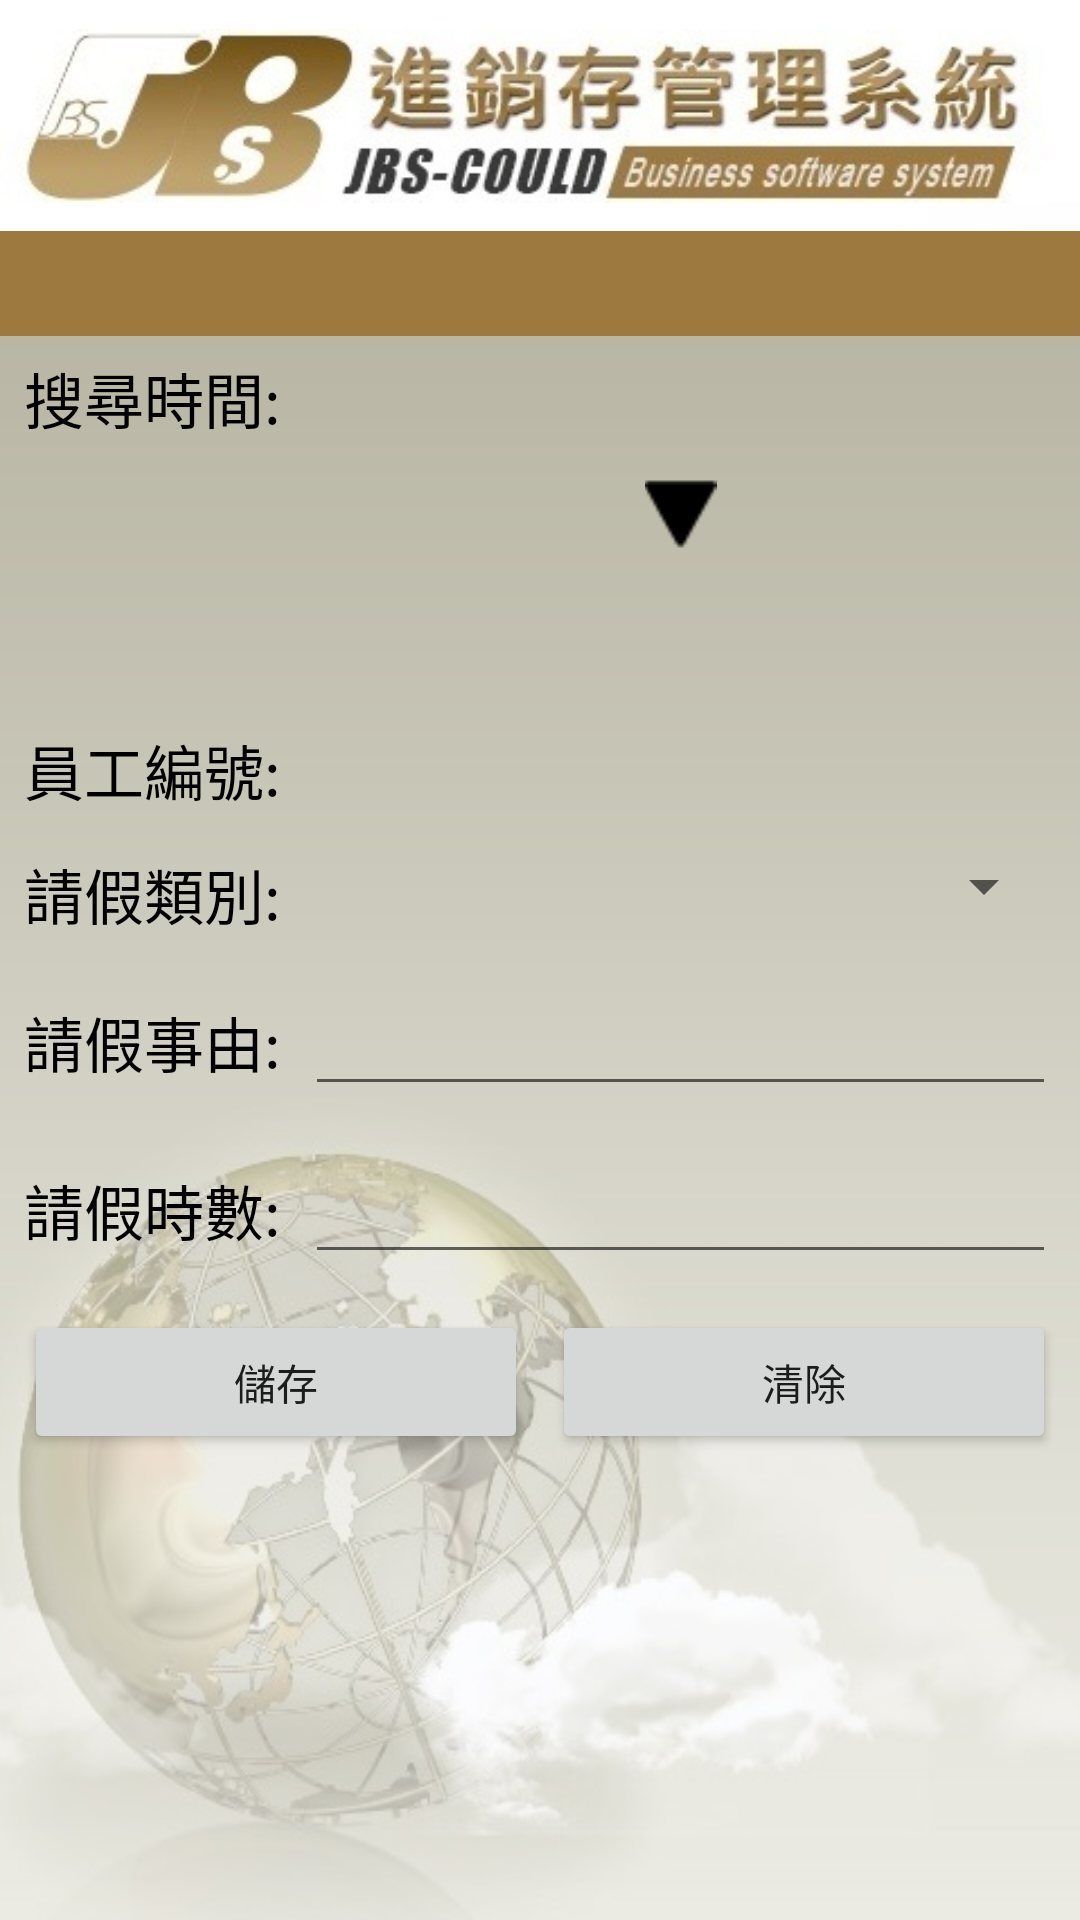

Icons on this 1080 x 1920 Android screen, each with its box as bbox=[x1, y1, x2, y2]:
down arrow: bbox=[645, 480, 717, 548]
